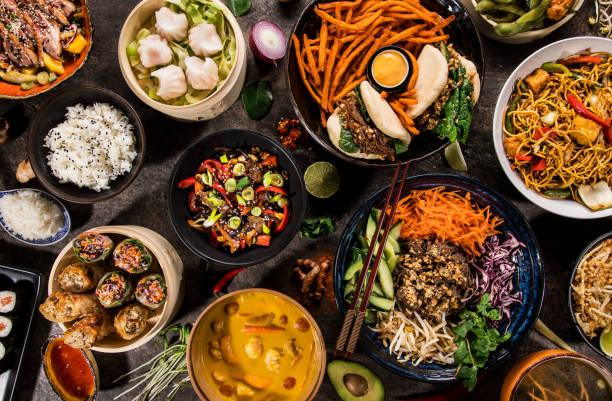Braised Crucian Carp: (333, 174, 541, 386), (285, 1, 478, 168), (493, 35, 611, 217), (165, 128, 303, 266), (47, 226, 181, 352), (185, 287, 325, 399), (119, 1, 247, 122), (27, 85, 146, 204), (0, 1, 93, 99)
